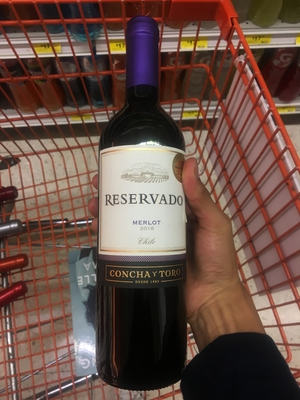reservado merlot: (86, 21, 199, 384)
